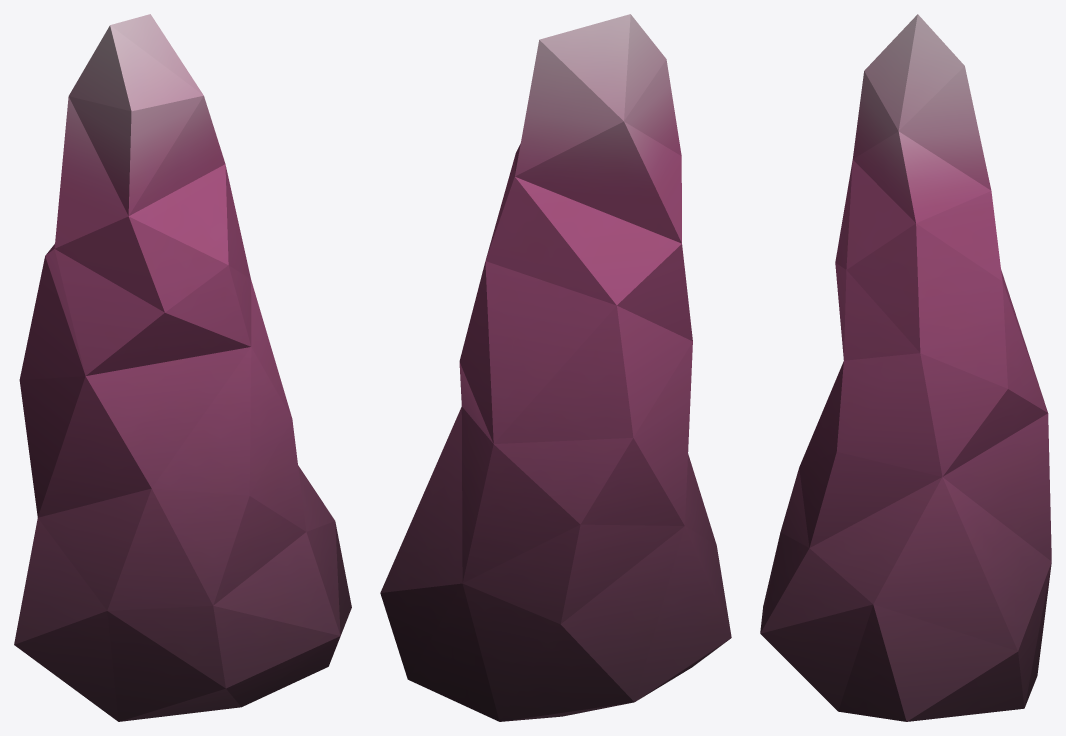
3 renders of one model, left to right at view 1: azimuth 30°, elevation 25°; view 2: azimuth 150°, elevation 25°; view 3: azimuth 270°, elevation 25°, orthographic. The views are drawn at different scales.
Parts seen in each view (by area): view 1: Base_03; view 2: Base_03; view 3: Base_03.
Part boxes in pixels (x1,y1,x2,y2): Base_03: (14,14,351,721); Base_03: (380,14,731,721); Base_03: (760,14,1051,721).
Bounding box in the file's own units: 0.8662 × 1.74 × 0.6948.
